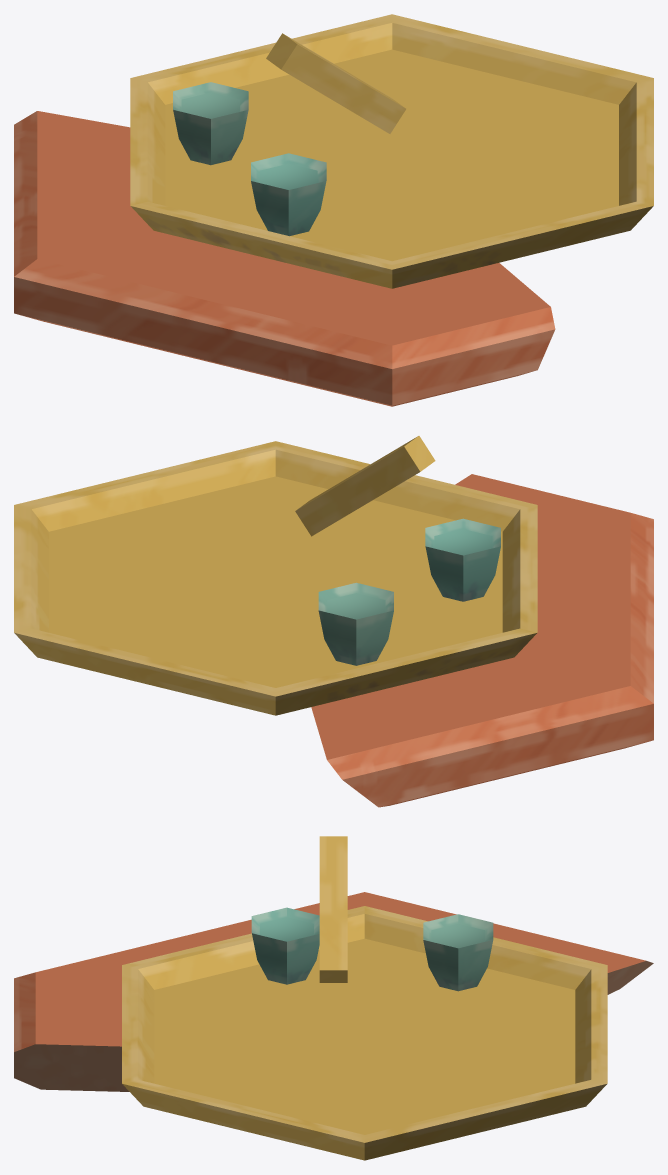
Rendered from tea_table_s04.fbx.
3 renders of one model, top to bottom at view 1: azimuth 30°, elevation 25°; view 2: azimuth 150°, elevation 25°; view 3: azimuth 270°, elevation 25°, orthographic. The views are drawn at different scales.
Visible parts, largest first — view 1: tea_table_s04; view 2: tea_table_s04; view 3: tea_table_s04.
Boxes of the visible parts, x1,y1,x2,y2 form: tea_table_s04: (14, 14, 653, 406); tea_table_s04: (14, 436, 653, 807); tea_table_s04: (14, 836, 653, 1160).
Bounding box in the file's own units: 2.2 × 0.9168 × 2.05.
